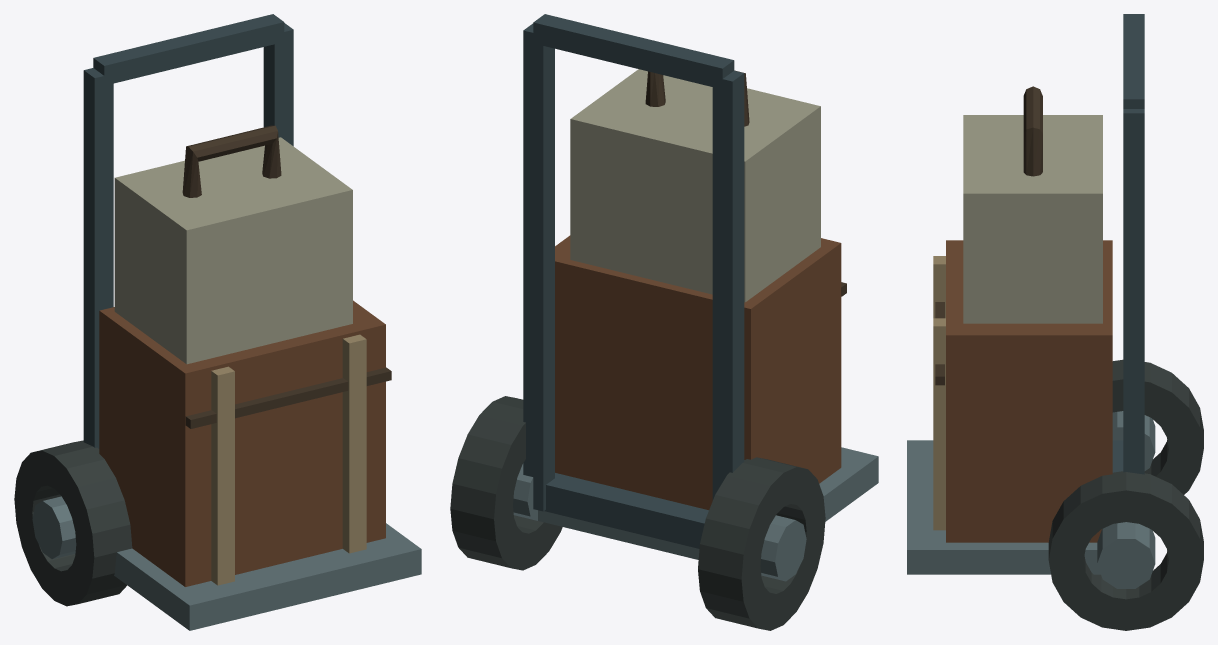
The model's file is Prop_Daily_LuggageHandtruck_001.glb.
3 renders of one model, left to right at view 1: azimuth 30°, elevation 25°; view 2: azimuth 150°, elevation 25°; view 3: azimuth 270°, elevation 25°, orthographic. The views are drawn at different scales.
Parts seen in each view (by area): view 1: Prop_Daily_LuggageHandtruck_001; view 2: Prop_Daily_LuggageHandtruck_001; view 3: Prop_Daily_LuggageHandtruck_001.
Boxes of the visible parts, x1,y1,x2,y2 form: Prop_Daily_LuggageHandtruck_001: (14, 14, 421, 630); Prop_Daily_LuggageHandtruck_001: (450, 14, 878, 630); Prop_Daily_LuggageHandtruck_001: (907, 14, 1203, 630).
Bounding box in the file's own units: 0.84 × 1.45 × 0.765.
